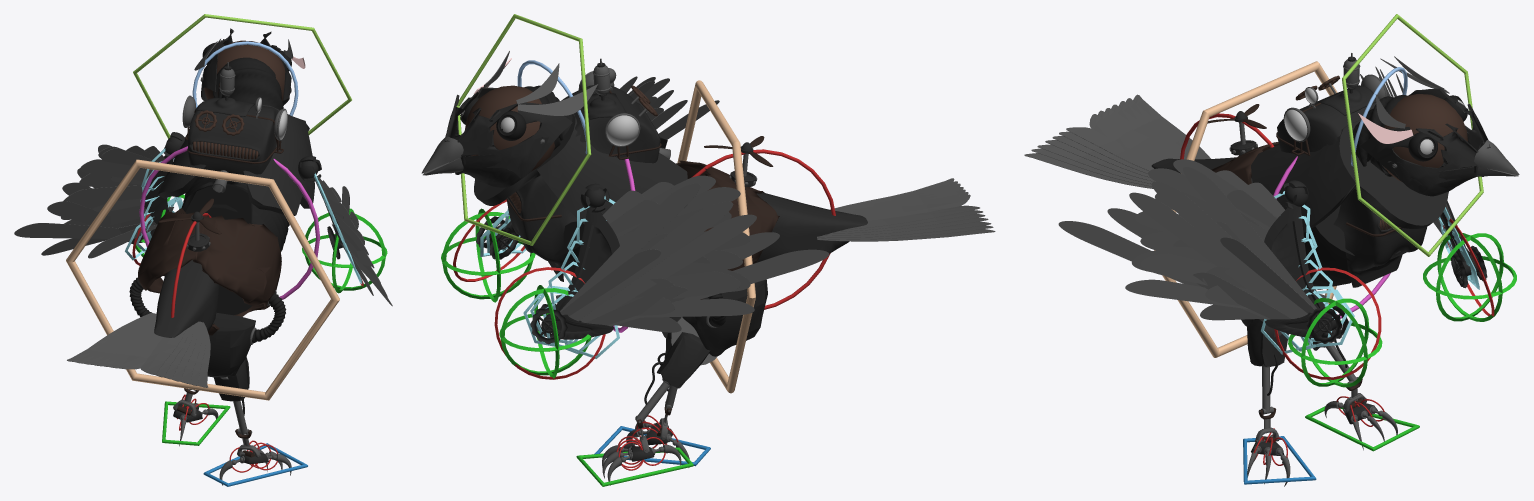
Rendered from birdCompressed.glb.
3 views of the same model, side by side, from view 1: azimuth 30°, elevation 25°; view 2: azimuth 150°, elevation 25°; view 3: azimuth 270°, elevation 25° (orthographic). The views are drawn at different scales.
Visible parts, largest first — view 1: obj; view 2: obj; view 3: obj.
Boxes of the visible parts, x1,y1,x2,y2 form: obj: [14, 14, 392, 486]; obj: [421, 14, 995, 486]; obj: [1024, 14, 1519, 486].
Bounding box in the file's own units: 117 × 117 × 112.
